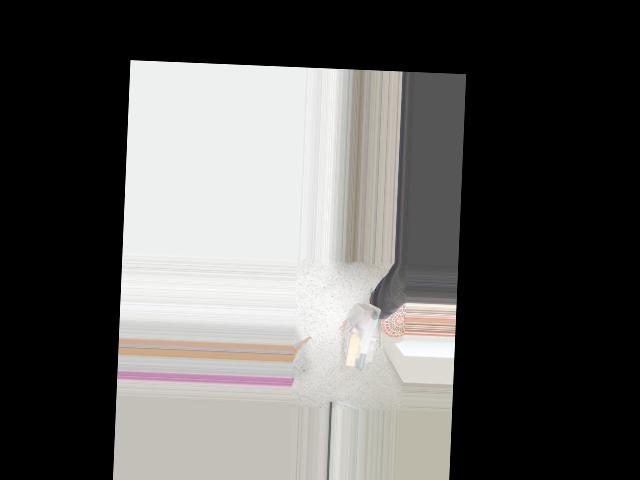cheese: (339, 303, 383, 371)
